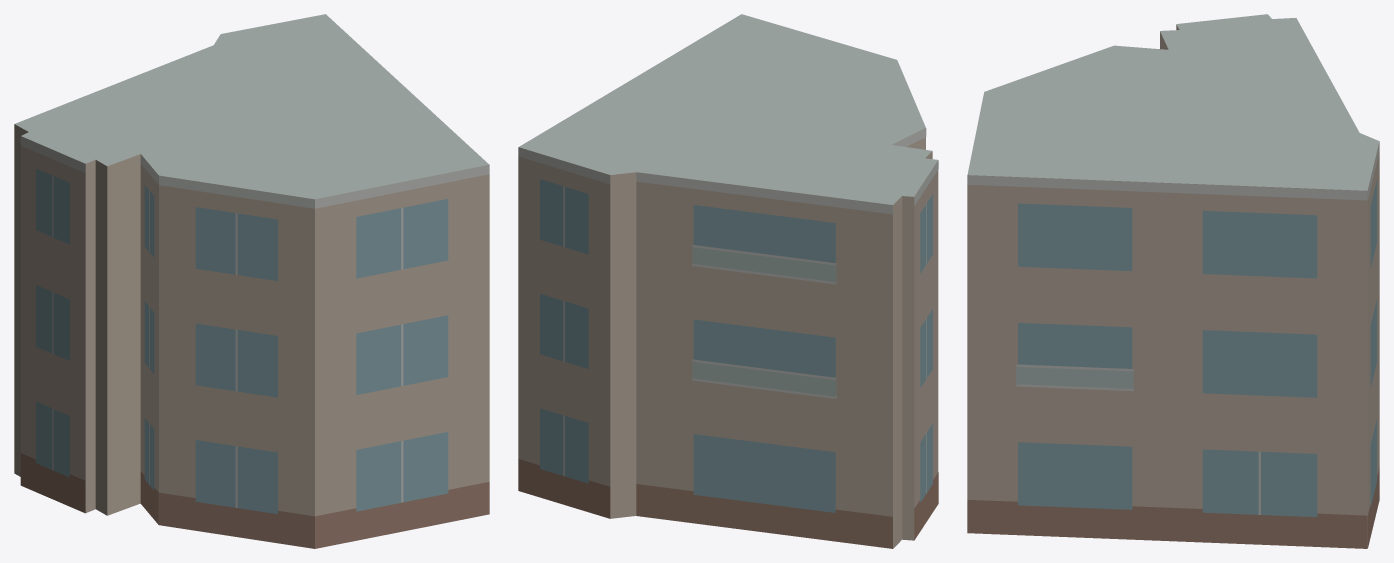
Rendered from survey-upis-32517306.glb.
The picture shows the model from 3 angles, left to right: view 1: azimuth 30°, elevation 25°; view 2: azimuth 150°, elevation 25°; view 3: azimuth 270°, elevation 25°; orthographic projection. The views are drawn at different scales.
Visible parts, largest first — view 1: survey-upis-32517306.tmp; view 2: survey-upis-32517306.tmp; view 3: survey-upis-32517306.tmp.
Part boxes in pixels (x1,y1,x2,y2): survey-upis-32517306.tmp: (14,14,489,548); survey-upis-32517306.tmp: (518,14,938,548); survey-upis-32517306.tmp: (967,14,1379,548).
Size of the model in its own units: 9.54 by 9 by 9.4.
